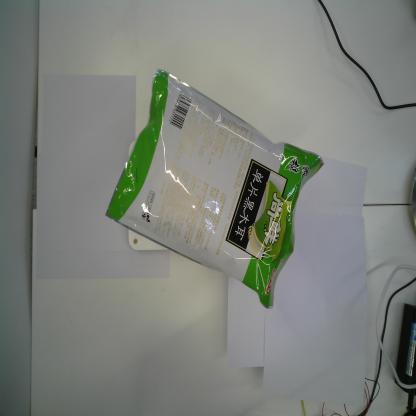Dried Food: (104, 67, 325, 312)
